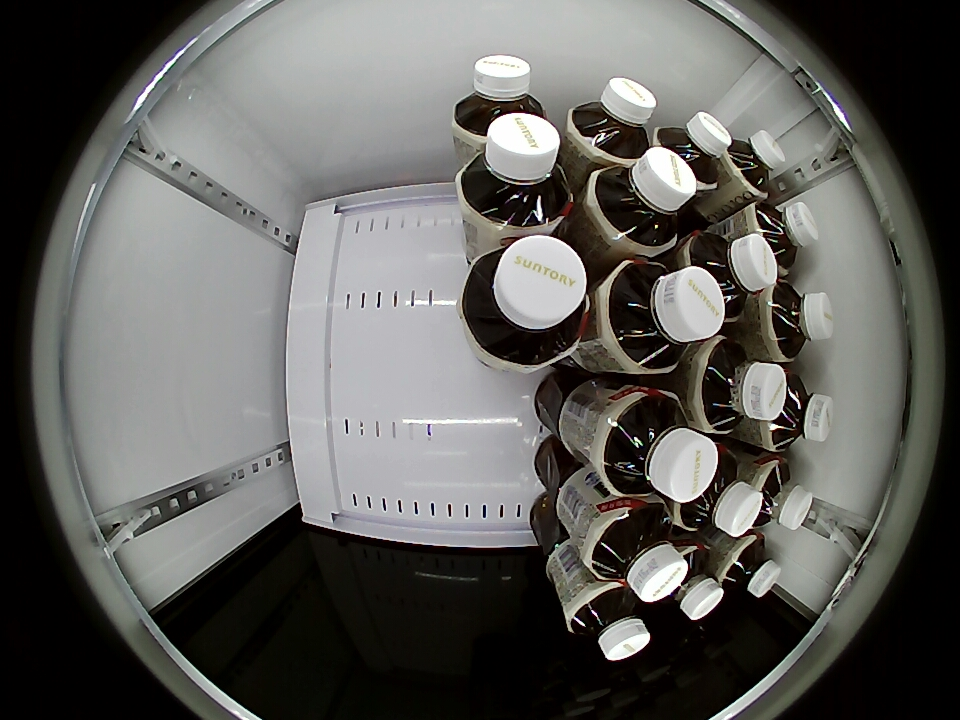wulongcha: (460, 234, 591, 368), (458, 111, 575, 231), (603, 259, 725, 374), (598, 388, 717, 502), (587, 147, 698, 255), (585, 501, 687, 602), (695, 339, 787, 434), (684, 231, 778, 320), (453, 54, 549, 140), (674, 449, 762, 538), (569, 76, 658, 163), (568, 584, 650, 661), (762, 281, 834, 361), (656, 111, 732, 186), (763, 371, 834, 451), (658, 544, 724, 621), (747, 456, 813, 532), (748, 201, 818, 272), (723, 130, 787, 197), (718, 534, 782, 599)
